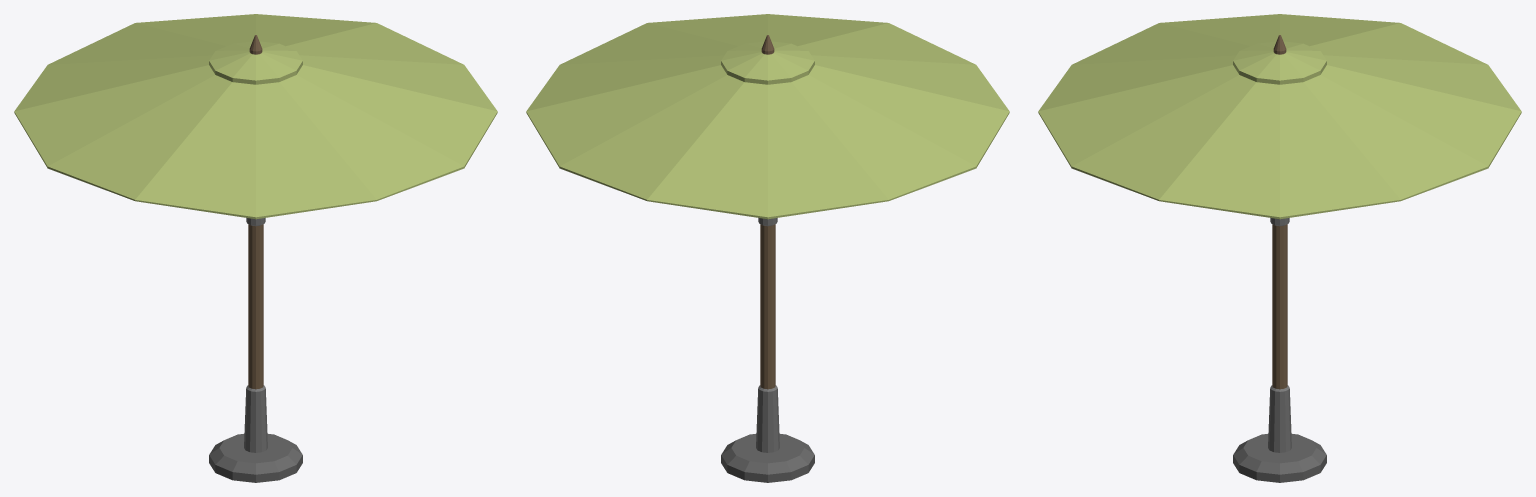
File: Umpbrella.fbx
3 renders of one model, left to right at view 1: azimuth 30°, elevation 25°; view 2: azimuth 150°, elevation 25°; view 3: azimuth 270°, elevation 25°, orthographic.
Parts seen in each view (by area): view 1: pCylinder3; view 2: pCylinder3; view 3: pCylinder3.
Boxes of the visible parts, x1=… form: pCylinder3: x1=14, y1=14, x2=497, y2=482; pCylinder3: x1=526, y1=14, x2=1009, y2=482; pCylinder3: x1=1038, y1=14, x2=1521, y2=482.
Bounding box in the file's own units: 10.26 × 10.07 × 10.31.
